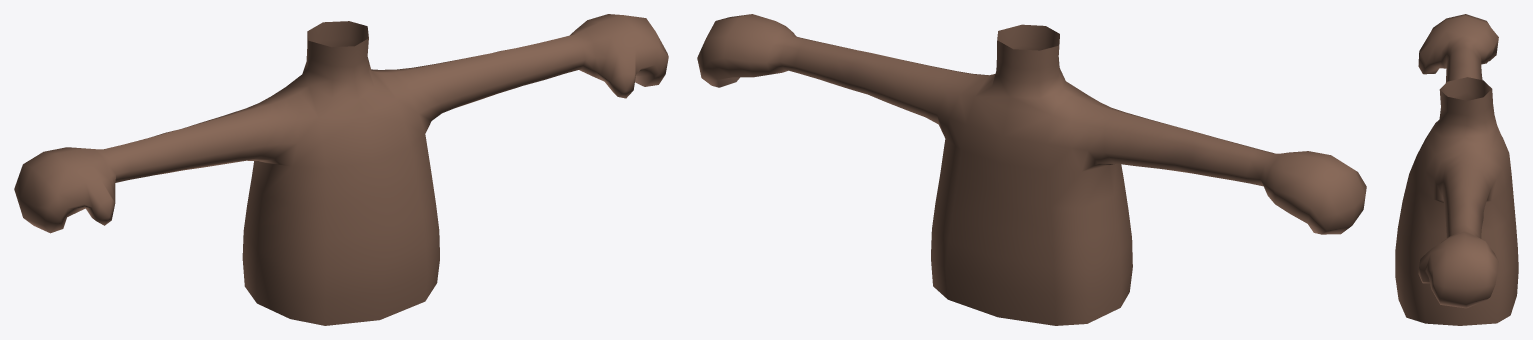
Rendered from Body_Black_Top_1.fbx.
3 views of the same model, side by side, from view 1: azimuth 30°, elevation 25°; view 2: azimuth 150°, elevation 25°; view 3: azimuth 270°, elevation 25° (orthographic). The views are drawn at different scales.
Parts seen in each view (by area): view 1: Body_Black_Top_1; view 2: Body_Black_Top_1; view 3: Body_Black_Top_1.
Boxes of the visible parts, bbox=[...] form: Body_Black_Top_1: bbox=[14, 14, 668, 325]; Body_Black_Top_1: bbox=[697, 14, 1366, 325]; Body_Black_Top_1: bbox=[1395, 14, 1518, 325].
Bounding box in the file's own units: 130 × 49.84 × 26.46.
